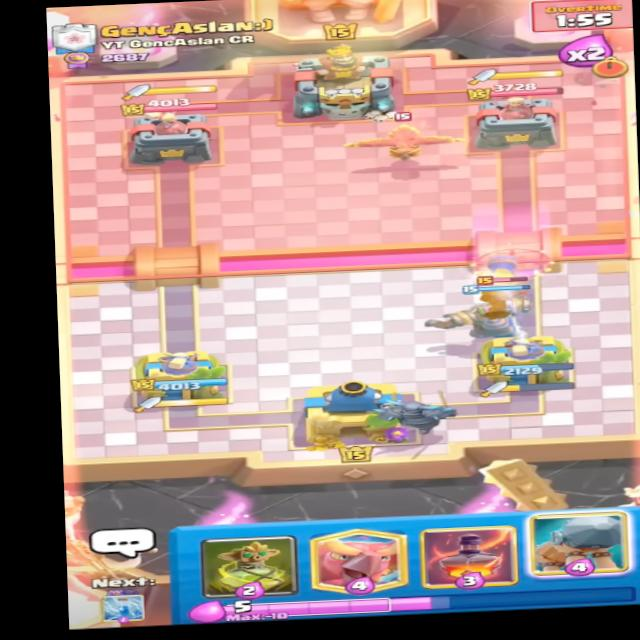Pheonix: (346, 110, 465, 168)
